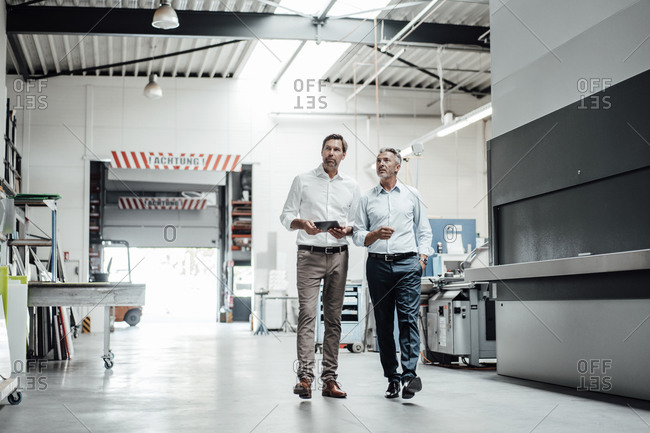person: (281, 134, 358, 400), (359, 147, 433, 400)
